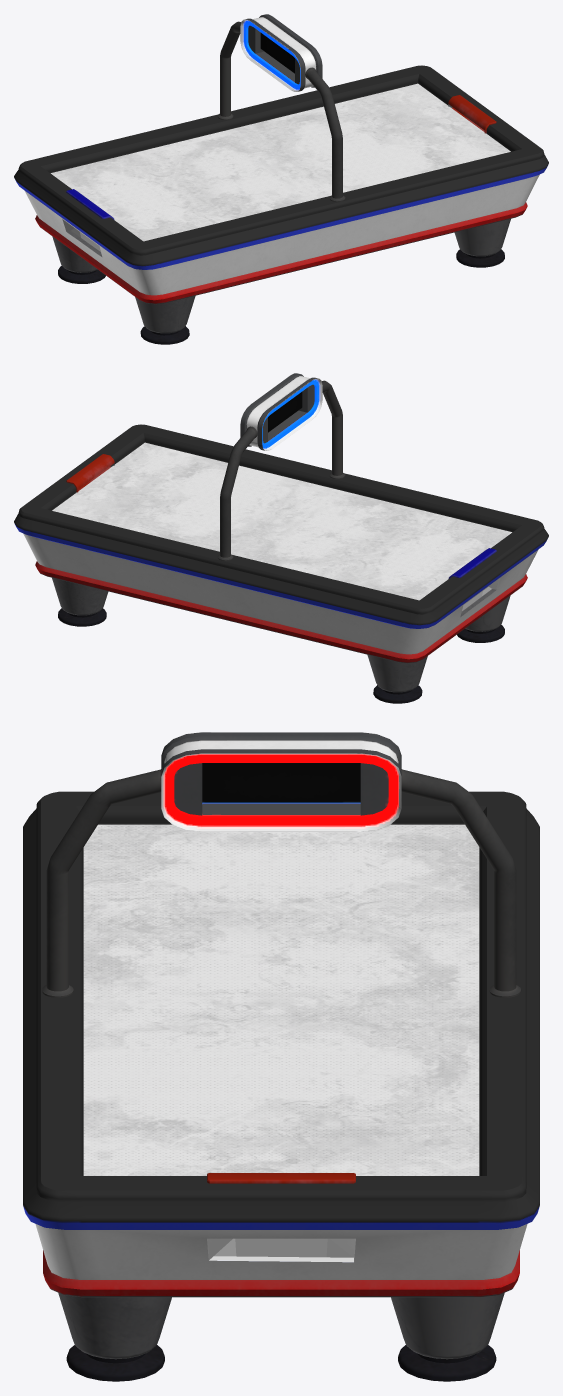
3 renders of one model, top to bottom at view 1: azimuth 30°, elevation 25°; view 2: azimuth 150°, elevation 25°; view 3: azimuth 270°, elevation 25°, orthographic. The views are drawn at different scales.
Parts seen in each view (by area): view 1: table; view 2: table; view 3: table.
Part boxes in pixels (<box>): table: <box>14,14,548,344</box>; table: <box>14,373,548,703</box>; table: <box>23,732,539,1381</box>.
Bounding box in the file's own units: 2.93 × 1.55 × 1.56.
1 material, 1 textured.
